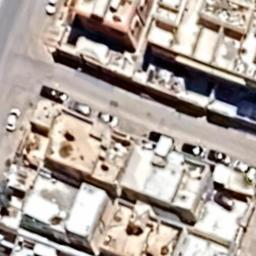pickup: (208, 149, 231, 166), (182, 142, 206, 158)
sedan: (233, 158, 256, 177), (94, 110, 118, 128), (6, 108, 20, 132), (45, 0, 58, 15)
truck: (41, 86, 68, 104)
unknown: (68, 98, 91, 116)
